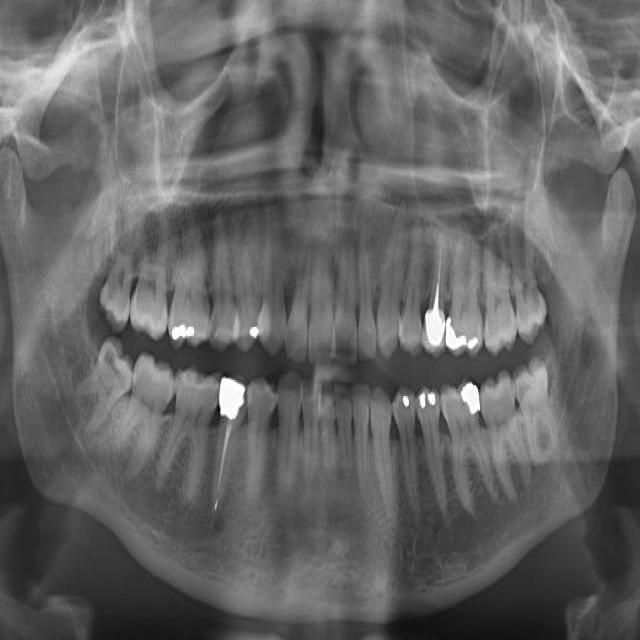dolgu: (452, 374, 488, 432), (445, 311, 484, 357), (169, 307, 203, 350), (414, 380, 441, 426), (242, 311, 272, 350), (400, 379, 412, 431)
kanal-tedavisi: (214, 408, 234, 524), (432, 233, 444, 312)
kaplama: (215, 368, 245, 426), (424, 306, 447, 354)
